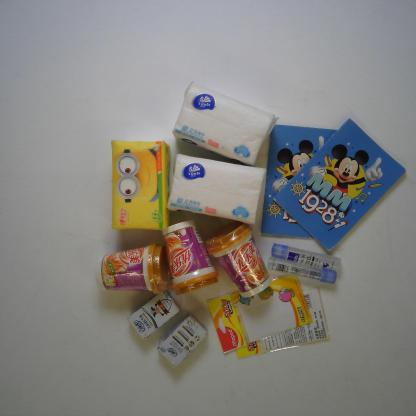Instant Drink: (208, 222, 274, 297), (162, 218, 220, 297), (95, 244, 168, 295)
Milk: (122, 294, 180, 340), (158, 314, 207, 366)
Stationery: (272, 116, 408, 254), (266, 114, 361, 243), (207, 275, 310, 352), (236, 286, 331, 356), (266, 245, 340, 274), (264, 259, 337, 288)
Tissue: (171, 84, 275, 164), (168, 153, 268, 225), (110, 140, 169, 233)
